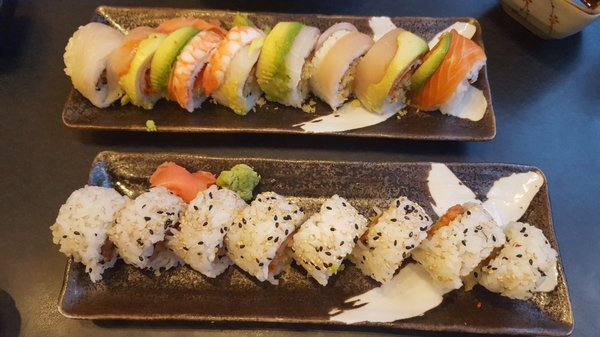soup: (408, 25, 487, 110)
sushi: (54, 148, 552, 328), (500, 0, 600, 41)
